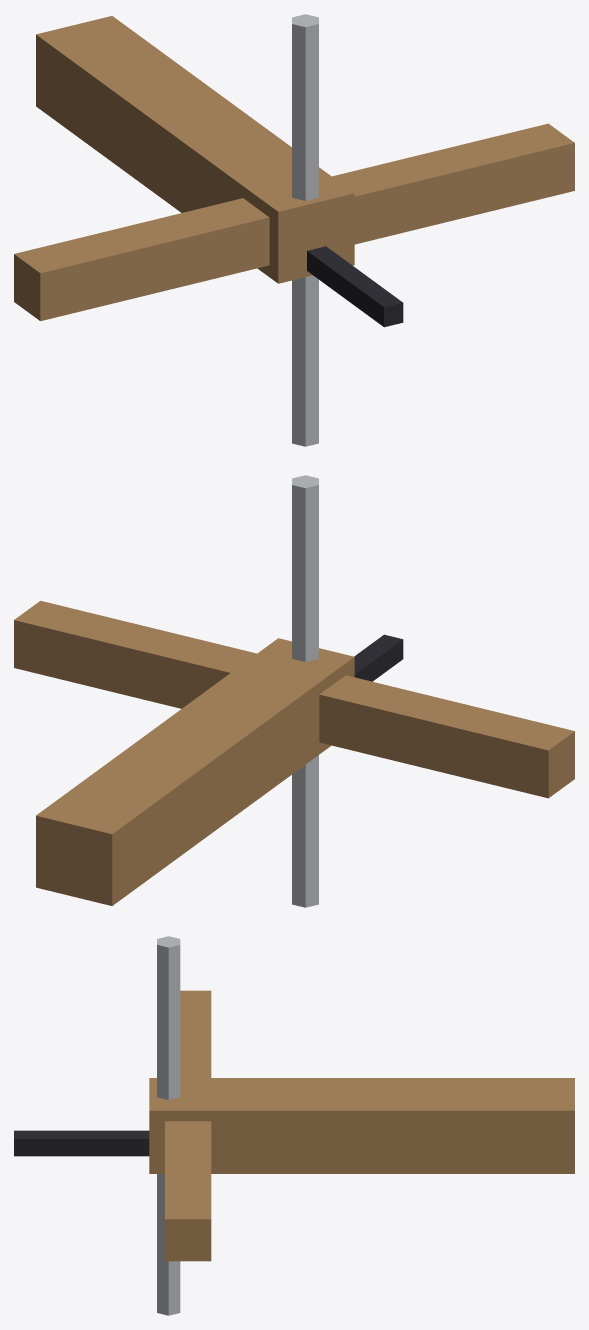
File: heavy_crossbow.glb
3 renders of one model, top to bottom at view 1: azimuth 30°, elevation 25°; view 2: azimuth 150°, elevation 25°; view 3: azimuth 270°, elevation 25°, orthographic. The views are drawn at different scales.
Visible parts, largest first — view 1: stock, bow, bolt, string; view 2: stock, bow, bolt, string; view 3: stock, bow, bolt, string.
Part boxes in pixels (x1=…): stock: x1=36, y1=16, x2=354, y2=283; bow: x1=14, y1=123, x2=574, y2=321; bolt: x1=292, y1=14, x2=318, y2=446; string: x1=307, y1=246, x2=403, y2=327; stock: x1=36, y1=638, x2=354, y2=905; bow: x1=14, y1=600, x2=574, y2=798; bolt: x1=292, y1=475, x2=318, y2=907; string: x1=354, y1=634, x2=403, y2=681; stock: x1=149, y1=1078, x2=574, y2=1173; bow: x1=165, y1=990, x2=211, y2=1261; bolt: x1=157, y1=936, x2=180, y2=1315; string: x1=14, y1=1130, x2=149, y2=1156.
Size of the model in its own units: 1.4 by 1.05 by 1.45.
